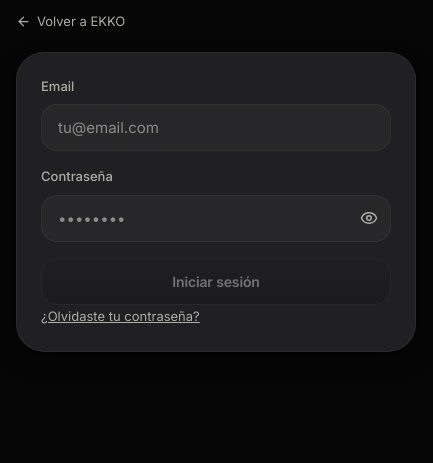
Test: Login › miembro SUSPENDIDO POR PAUSA: mensaje de pausa, no de sanción
Type "a@e.mx" into the field labelled "Email".
click(216, 128); type("a@e.mx")  # box 41,104 -> 391,151
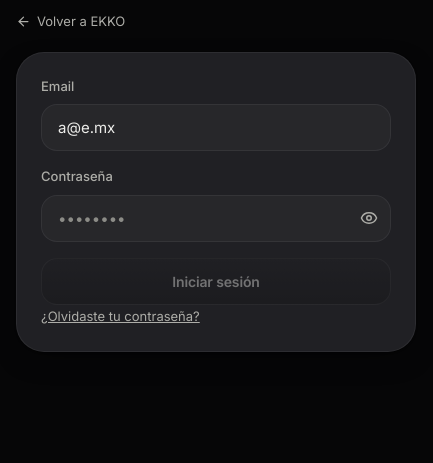
Type "secreto123" into the password field labelled "Contraseña".
click(216, 218); type("secreto123")  # box 41,194 -> 391,242
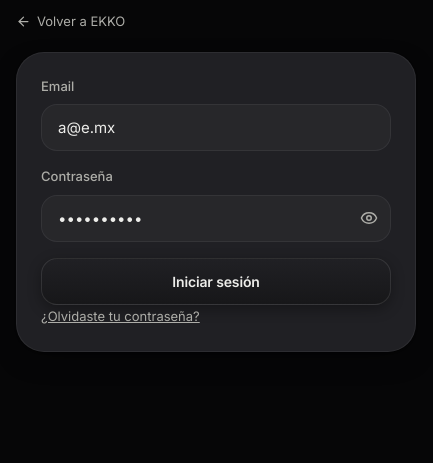
Click the button "Iniciar sesión".
click(216, 281)  # box 41,258 -> 391,304
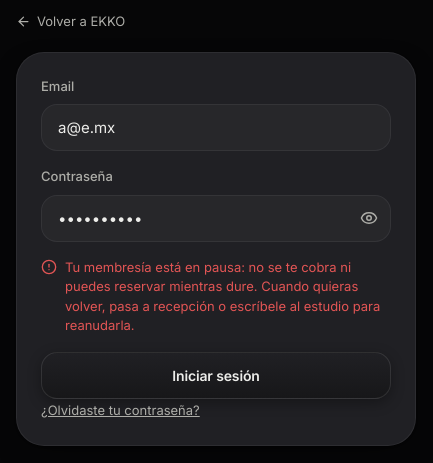
Expected: the text "Tu membresía está en pausa" is shown, 65,258 -> 380,333
